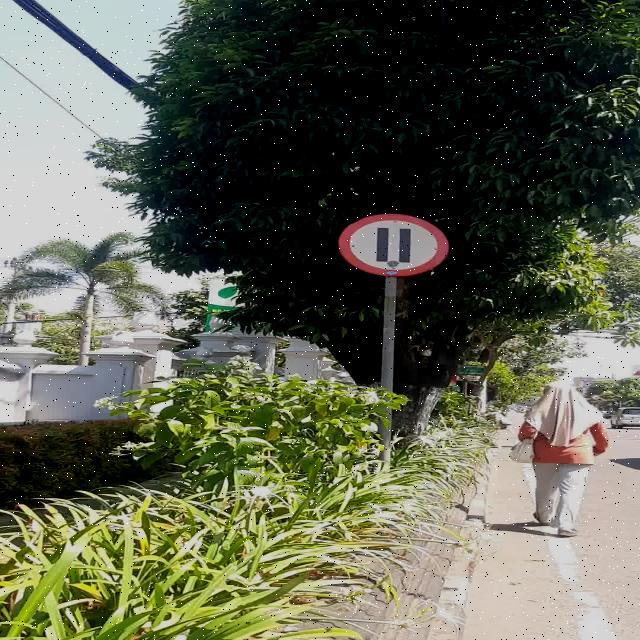Larangan Muatan - 10 ton: (338, 214, 448, 276)
